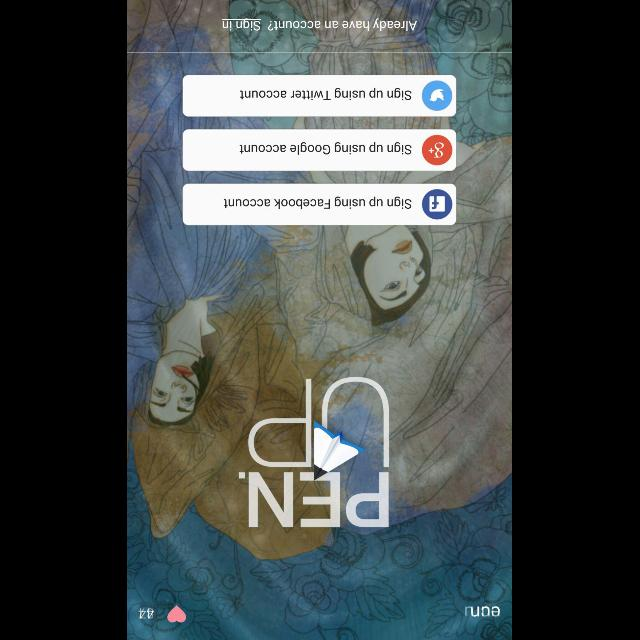backgroundimage: (128, 1, 512, 640)
image: (239, 377, 389, 528)
text: (222, 18, 418, 32)
textbutton: (183, 183, 457, 225), (183, 129, 457, 171), (183, 75, 457, 117)
